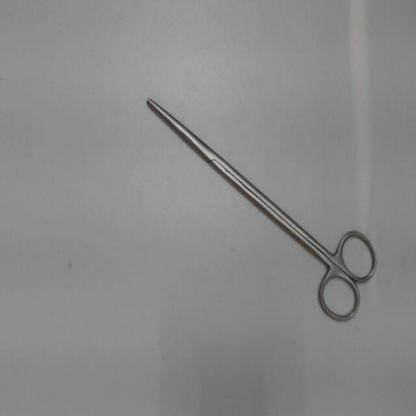9 Metzenbaum Scissors: (144, 93, 382, 326)
